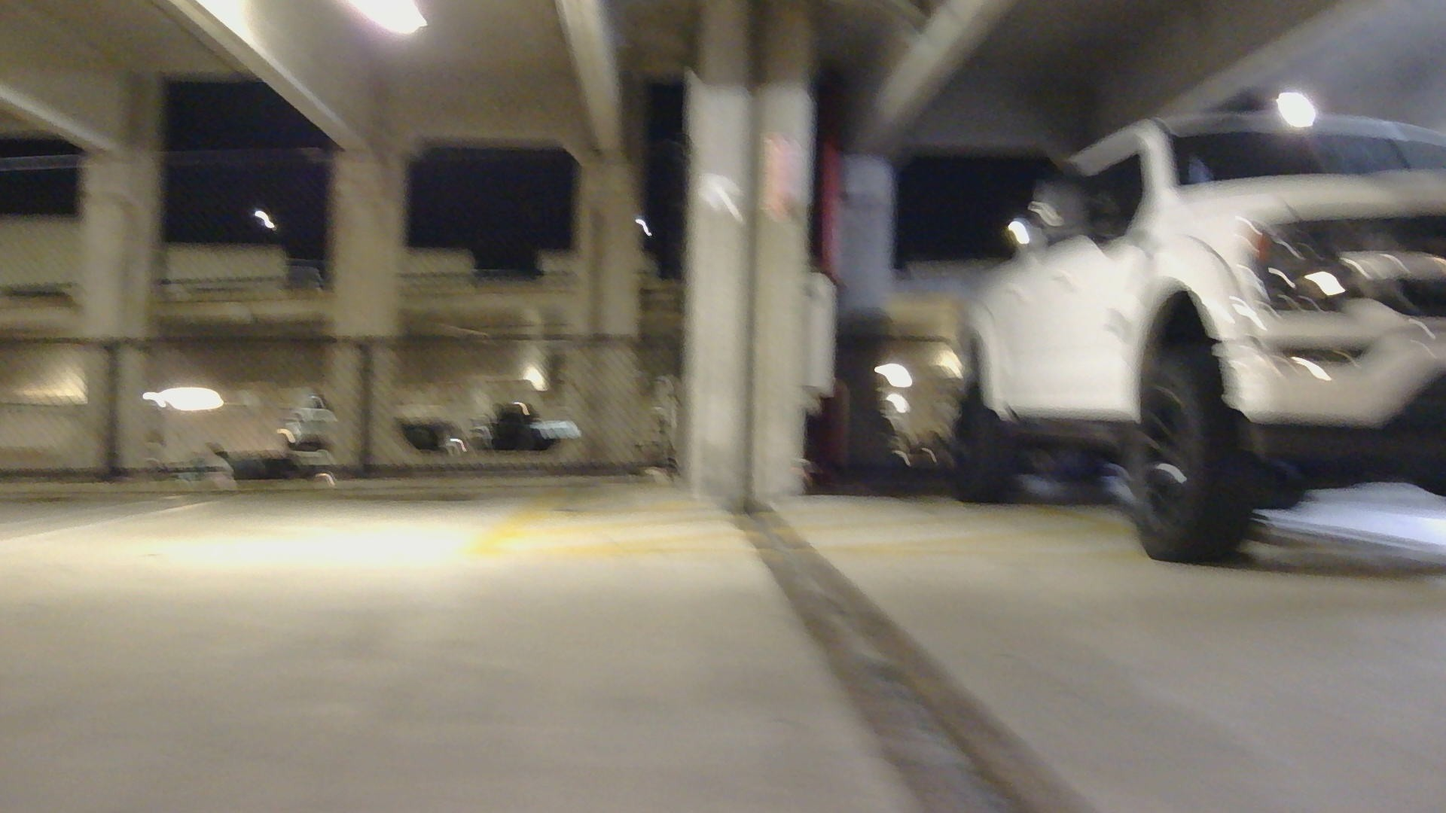empty_spot: (1, 399, 554, 565)
occupied_spot: (950, 111, 1446, 568)
